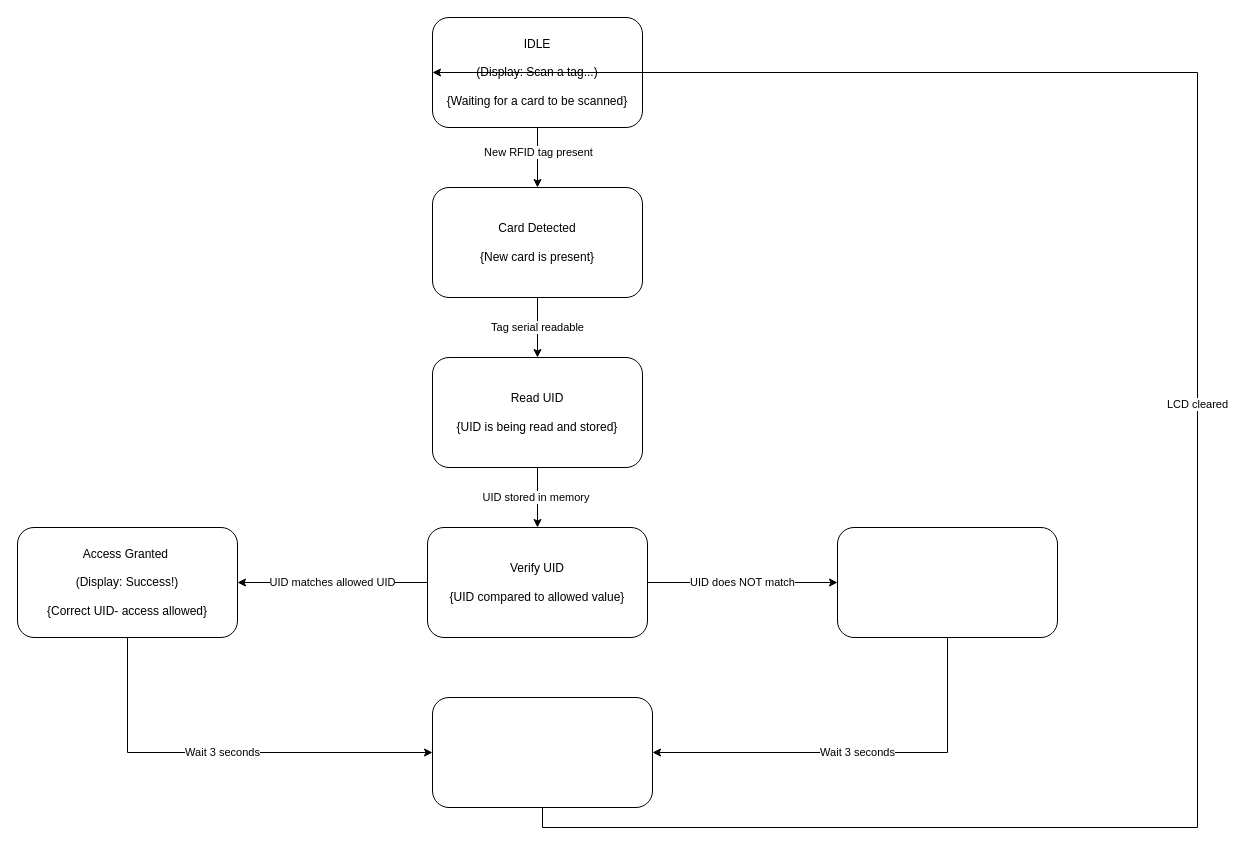
Image size: 1245x853. Some labels were removed from this diagram. Each missing label, with the centre of its shape:
"Access Denied (Display: Access Denied) {Incorrect UID- access denied}" goes at point 947,582.
"Reset (3s Delay, Clear LCD) {Waits 3 seconds then returns to IDLE}" goes at point 542,752.
